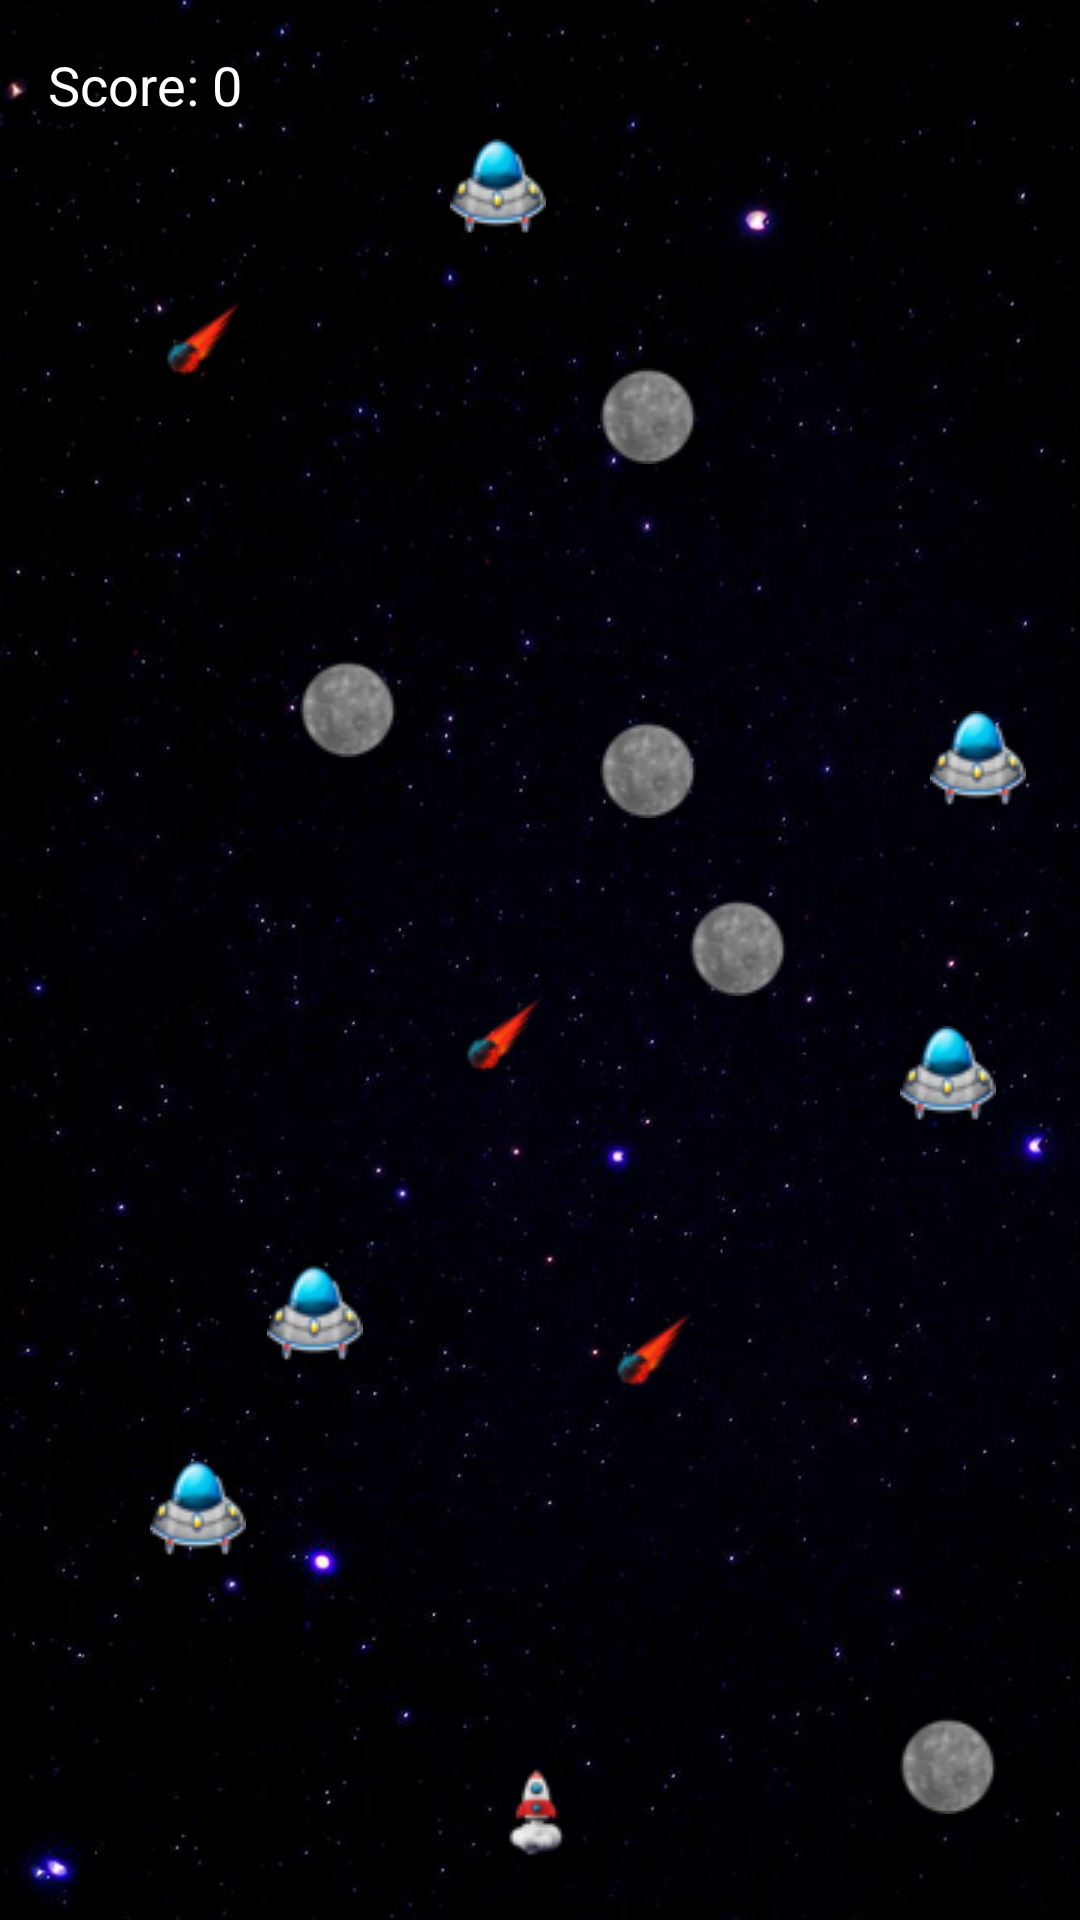

Icons on this 1080w x 1920h Android screen, each with its box as box(x1, y1, x2, y2):
alien spaceships: box(450, 139, 546, 233), box(930, 711, 1026, 805), box(900, 1026, 996, 1122), box(267, 1266, 363, 1360), box(150, 1461, 246, 1557)
asteroids: box(153, 300, 244, 376), box(452, 1000, 539, 1084), box(605, 1315, 696, 1404)
collectibles mercury: box(600, 370, 696, 464), box(300, 663, 394, 757), box(600, 722, 696, 818), box(690, 902, 784, 996), box(900, 1718, 994, 1814)
rocket: box(509, 1764, 588, 1855)
